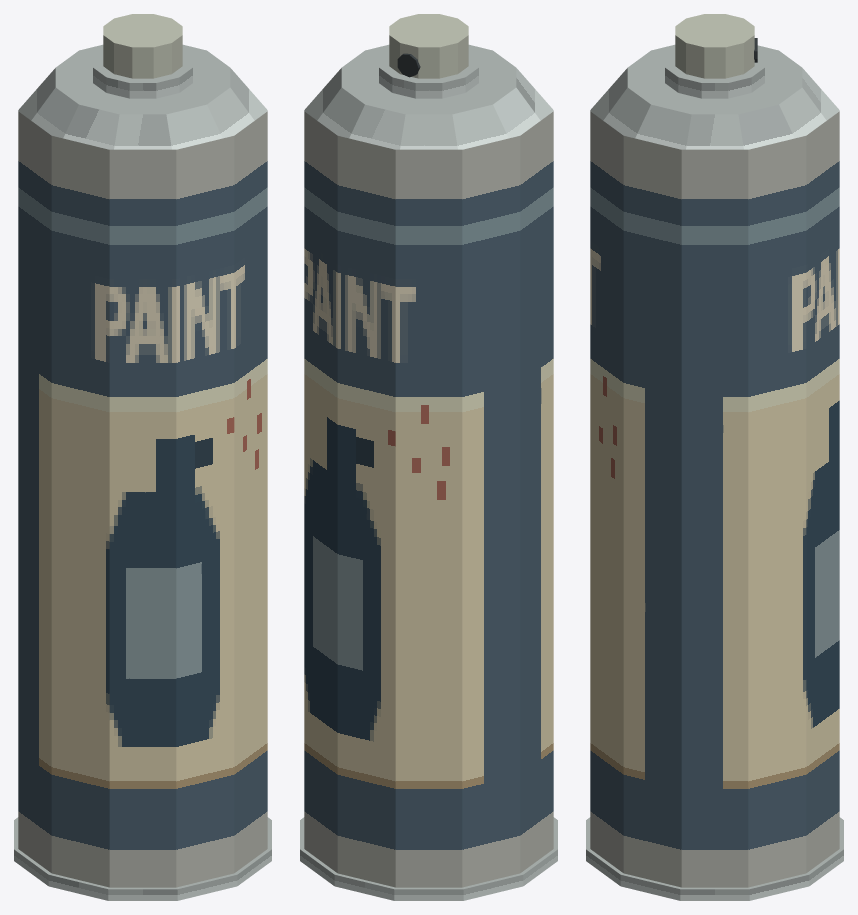
The model's file is spray_can.glb.
The picture shows the model from 3 angles, left to right: view 1: azimuth 30°, elevation 25°; view 2: azimuth 150°, elevation 25°; view 3: azimuth 270°, elevation 25°; orthographic projection.
Parts seen in each view (by area): view 1: block_illustrated wraparound can label, block_curved aerosol shoulder, block_paint spray actuator, block_rolled aerosol base, block_spray valve collar; view 2: block_illustrated wraparound can label, block_curved aerosol shoulder, block_paint spray actuator, block_rolled aerosol base, block_spray valve collar; view 3: block_illustrated wraparound can label, block_curved aerosol shoulder, block_paint spray actuator, block_rolled aerosol base, block_spray valve collar.
Boxes of the visible parts, x1,y1,x2,y2 form: block_illustrated wraparound can label: (18,111,267,887); block_curved aerosol shoulder: (18,44,267,149); block_paint spray actuator: (103,14,182,78); block_rolled aerosol base: (14,817,271,900); block_spray valve collar: (93,49,192,98); block_illustrated wraparound can label: (304,111,553,887); block_curved aerosol shoulder: (304,44,553,149); block_paint spray actuator: (389,14,468,78); block_rolled aerosol base: (300,817,557,900); block_spray valve collar: (379,49,478,98); block_illustrated wraparound can label: (590,111,839,887); block_curved aerosol shoulder: (590,44,839,149); block_paint spray actuator: (675,14,754,78); block_rolled aerosol base: (586,817,843,900); block_spray valve collar: (665,49,764,98).
Size of the model in its own units: 0.0602 by 0.21 by 0.0602.
Materials: 1 (1 with a texture image).
